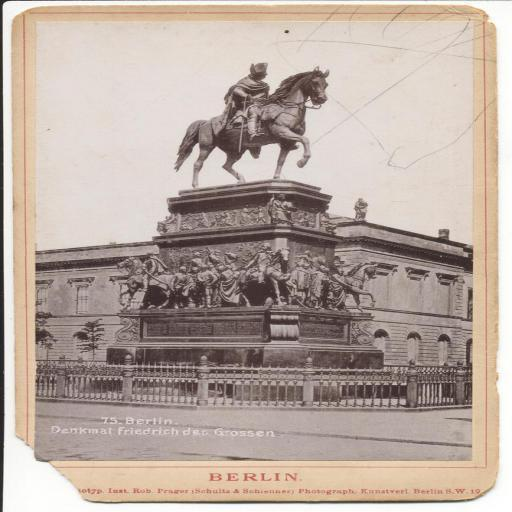horse: (172, 65, 332, 188)
